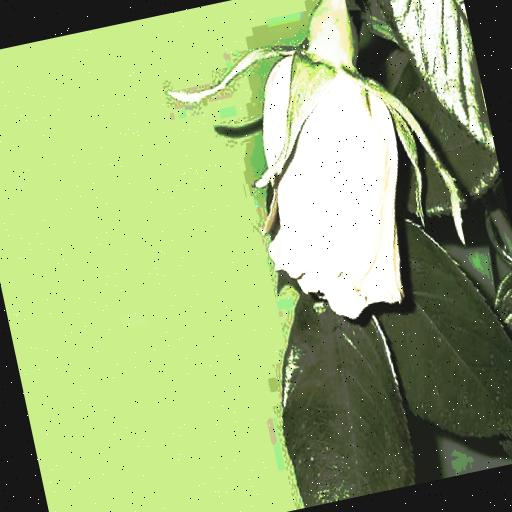rose: (221, 31, 440, 338)
